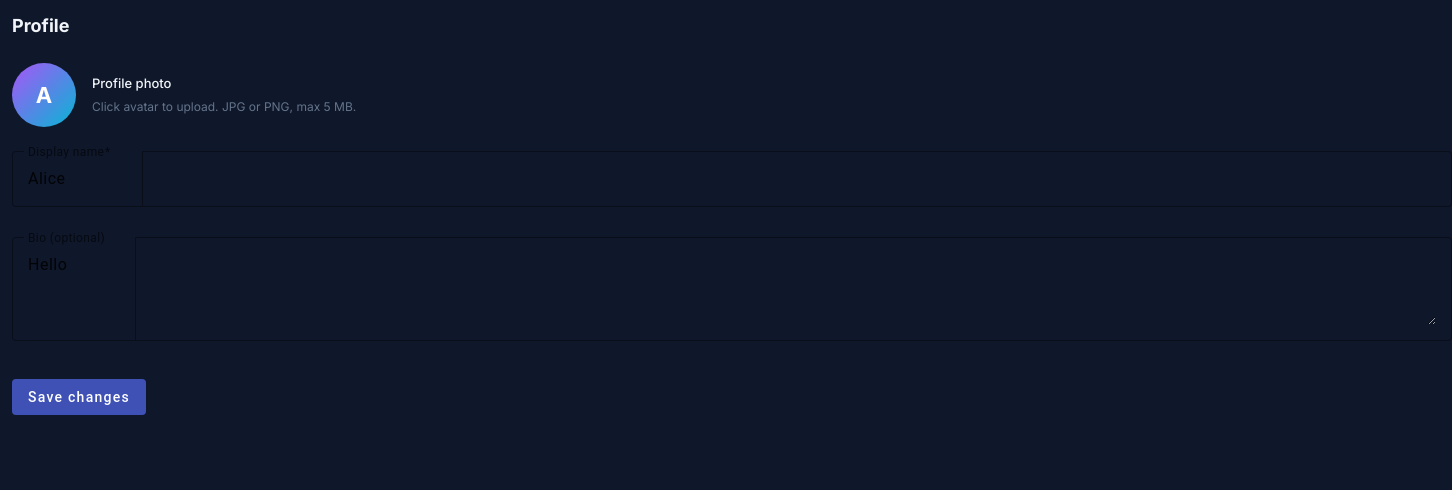
Test: ProfileTabComponent › shows success message after save
Click the button with test id "save-btn": click(79, 397) [12,379,146,415]
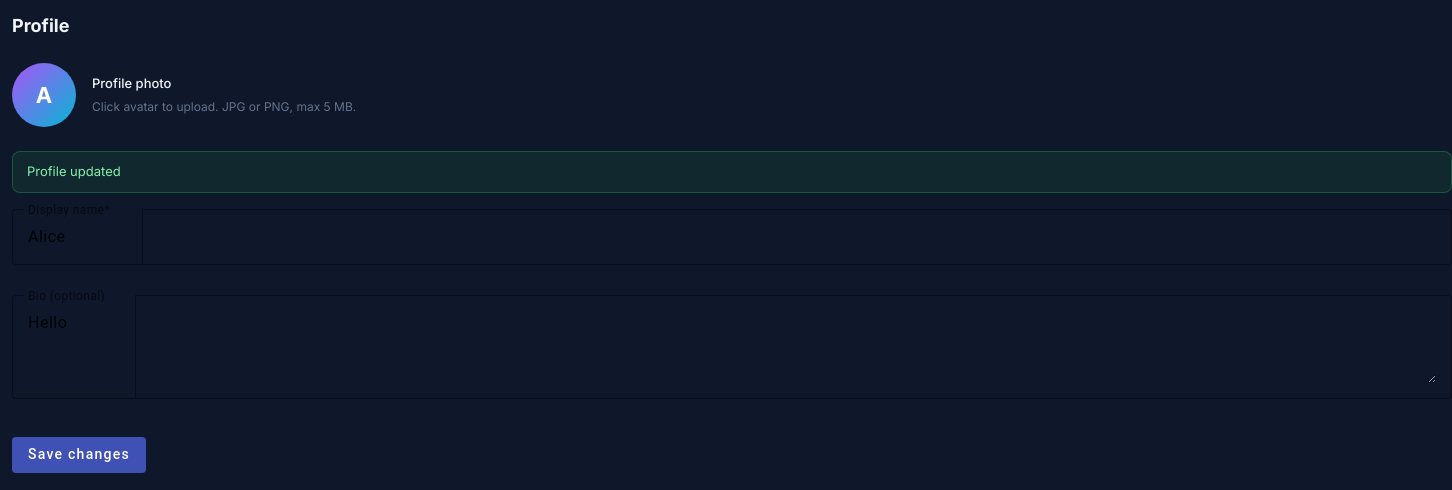
Expected: the text "Profile updated" is shown, [12,151,1451,192]
